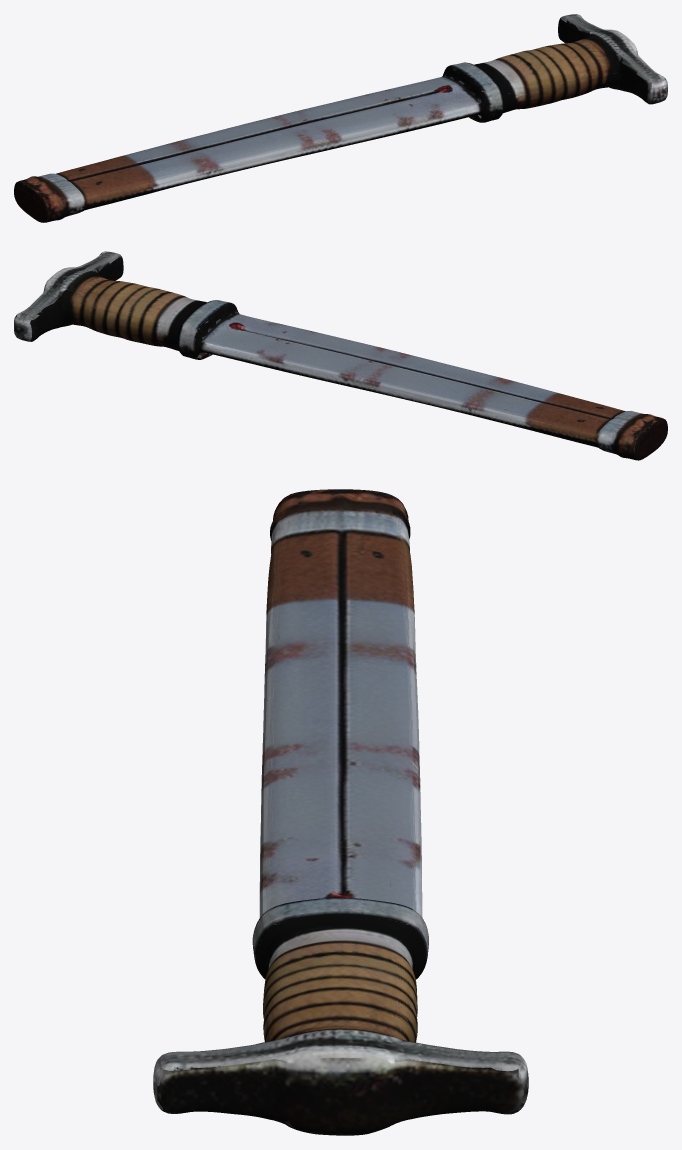
File: catalog-weapon-24.glb
3 views of the same model, one above another, from view 1: azimuth 30°, elevation 25°; view 2: azimuth 150°, elevation 25°; view 3: azimuth 270°, elevation 25° (orthographic). The views are drawn at different scales.
Visible parts, largest first — view 1: tmpaus6l60z.ply; view 2: tmpaus6l60z.ply; view 3: tmpaus6l60z.ply.
Boxes of the visible parts, x1,y1,x2,y2 form: tmpaus6l60z.ply: (14, 14, 667, 222); tmpaus6l60z.ply: (14, 251, 667, 460); tmpaus6l60z.ply: (153, 489, 528, 1135).
Size of the model in its own units: 1.96 by 0.1407 by 0.5313.
1 material, 1 textured.
